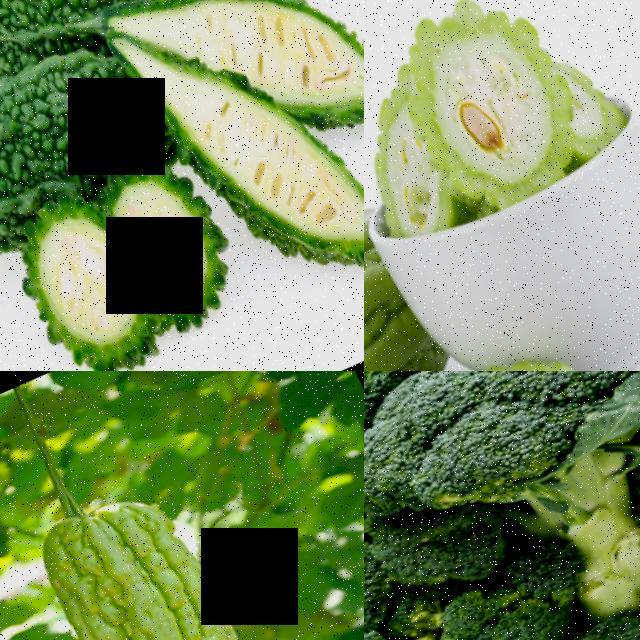bitter gourd: (0, 449, 348, 640), (381, 0, 613, 234), (184, 87, 364, 345), (0, 24, 177, 235), (0, 185, 192, 371), (119, 162, 267, 365), (0, 0, 209, 88), (233, 0, 364, 136), (452, 318, 640, 371)
broccoli: (364, 371, 640, 640)
